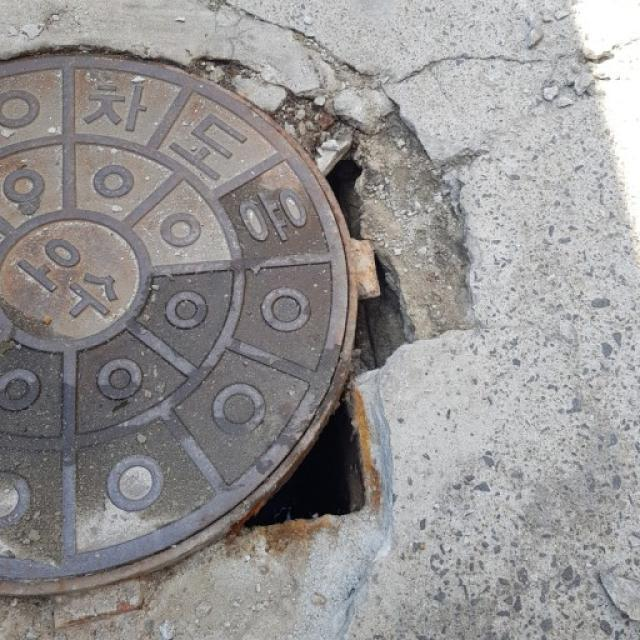manhole: (0, 30, 471, 600)
